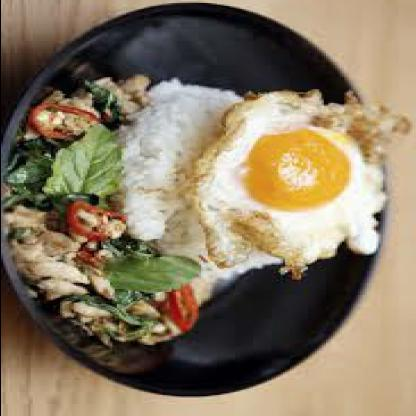Basil Rice: (3, 16, 368, 380)
